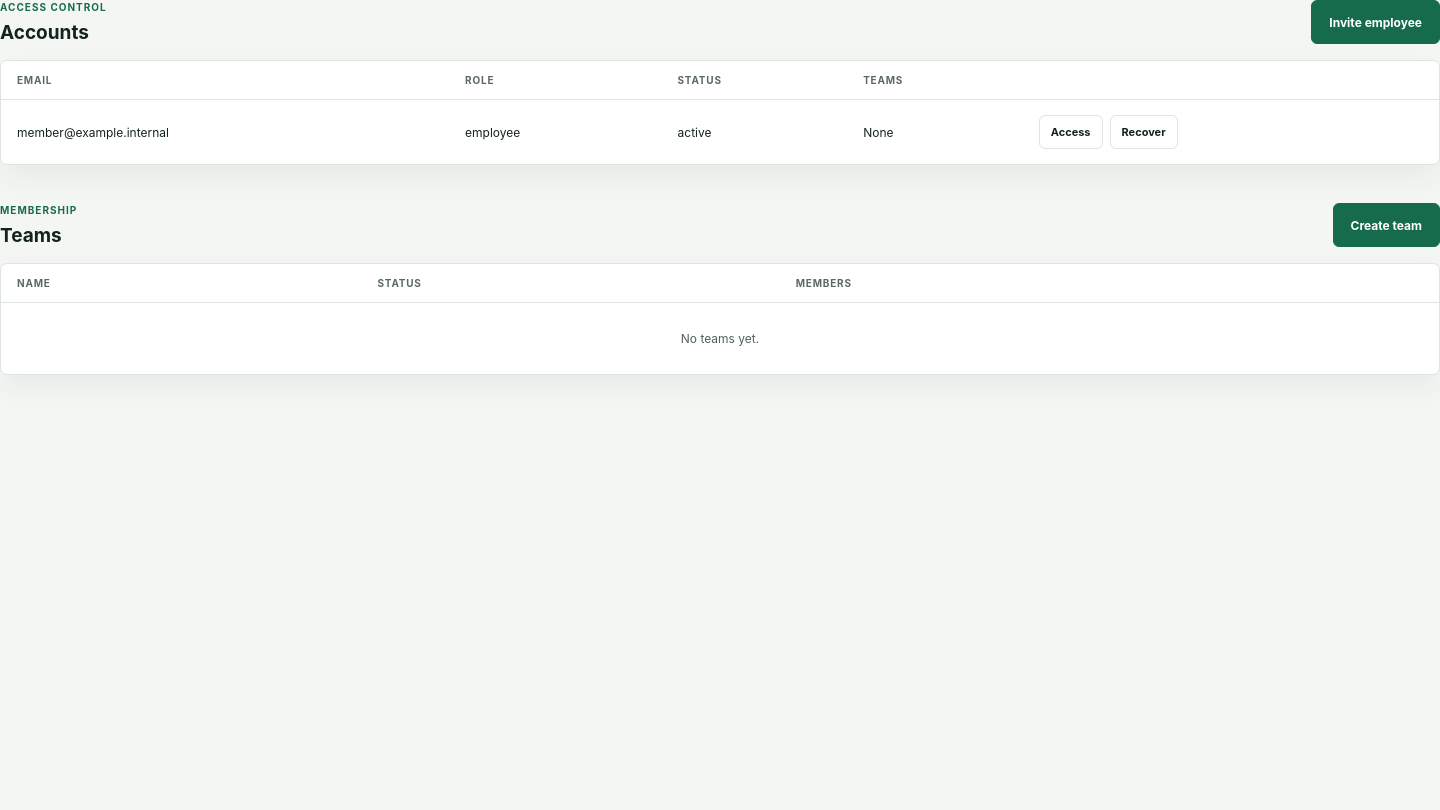
it: SystemAdminWorkspace › distinguishes a failed retried role change from failed reauthentication
The image size is (1440, 810).
Click the button with aria-label "Manage access for member@example.internal": x=1071, y=132 x1=1039 y1=115 x2=1103 y2=149
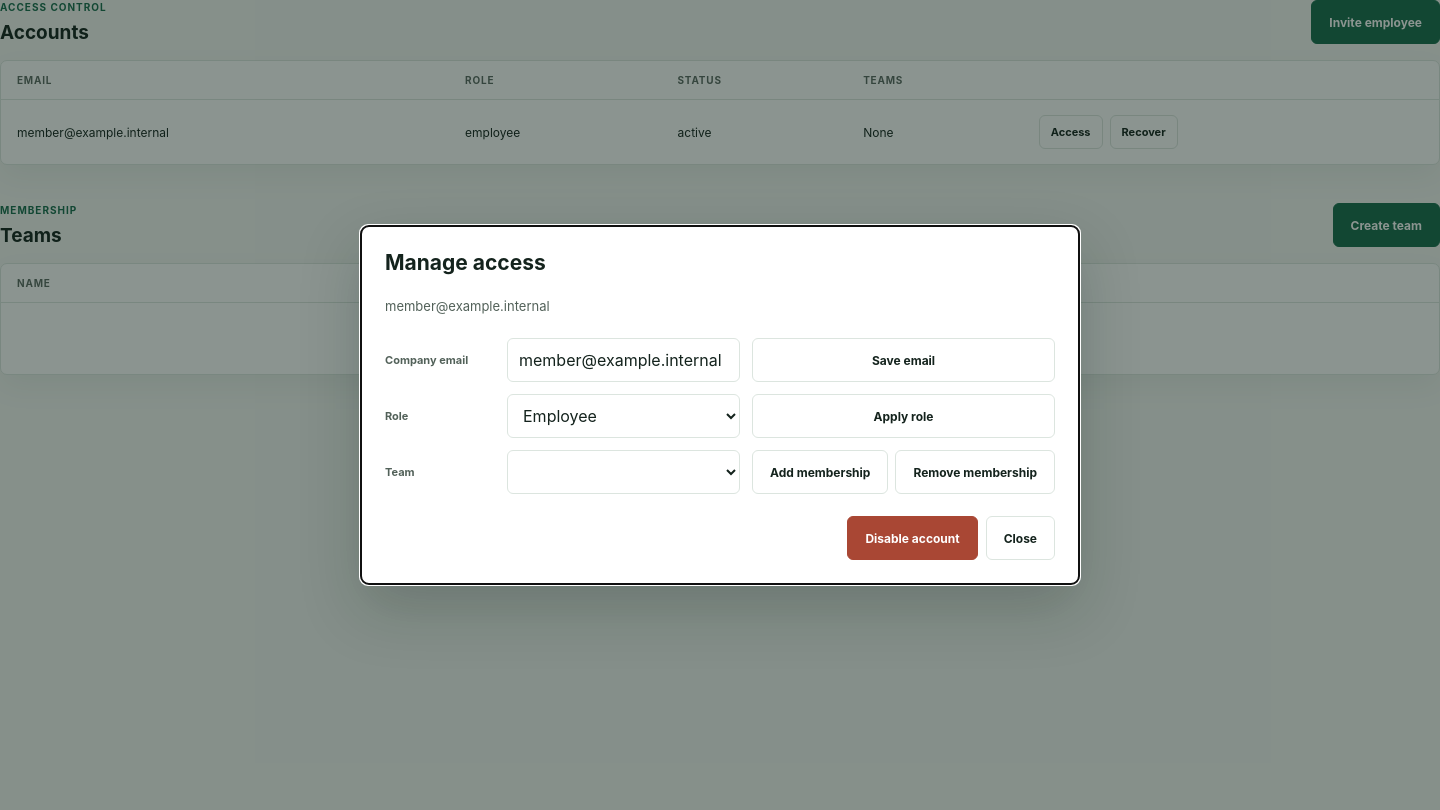
Select "System administrator" in the dropdown labelled "Role": x=624, y=416 x1=507 y1=394 x2=740 y2=438
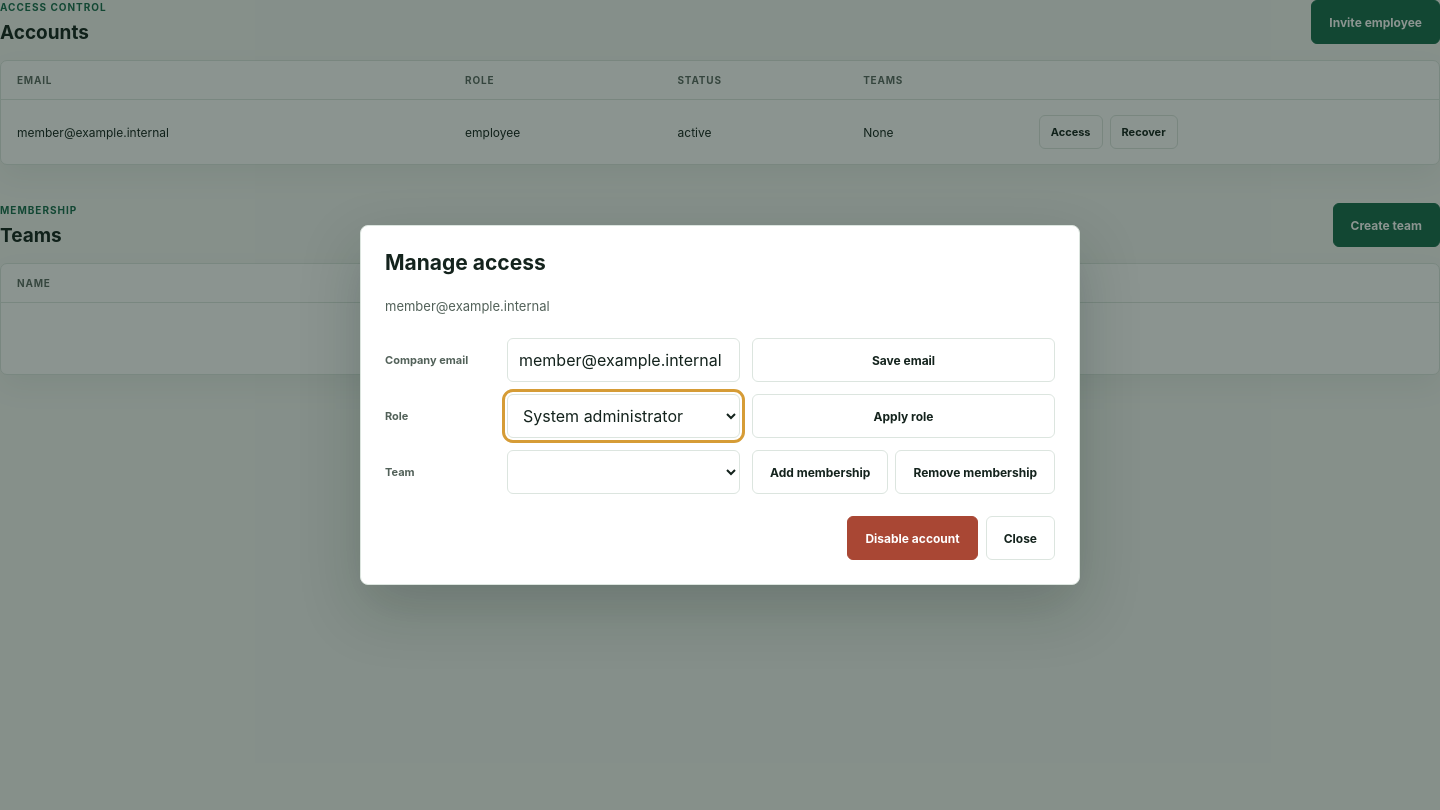
Click the button "Apply role": x=904, y=416 x1=752 y1=394 x2=1055 y2=438
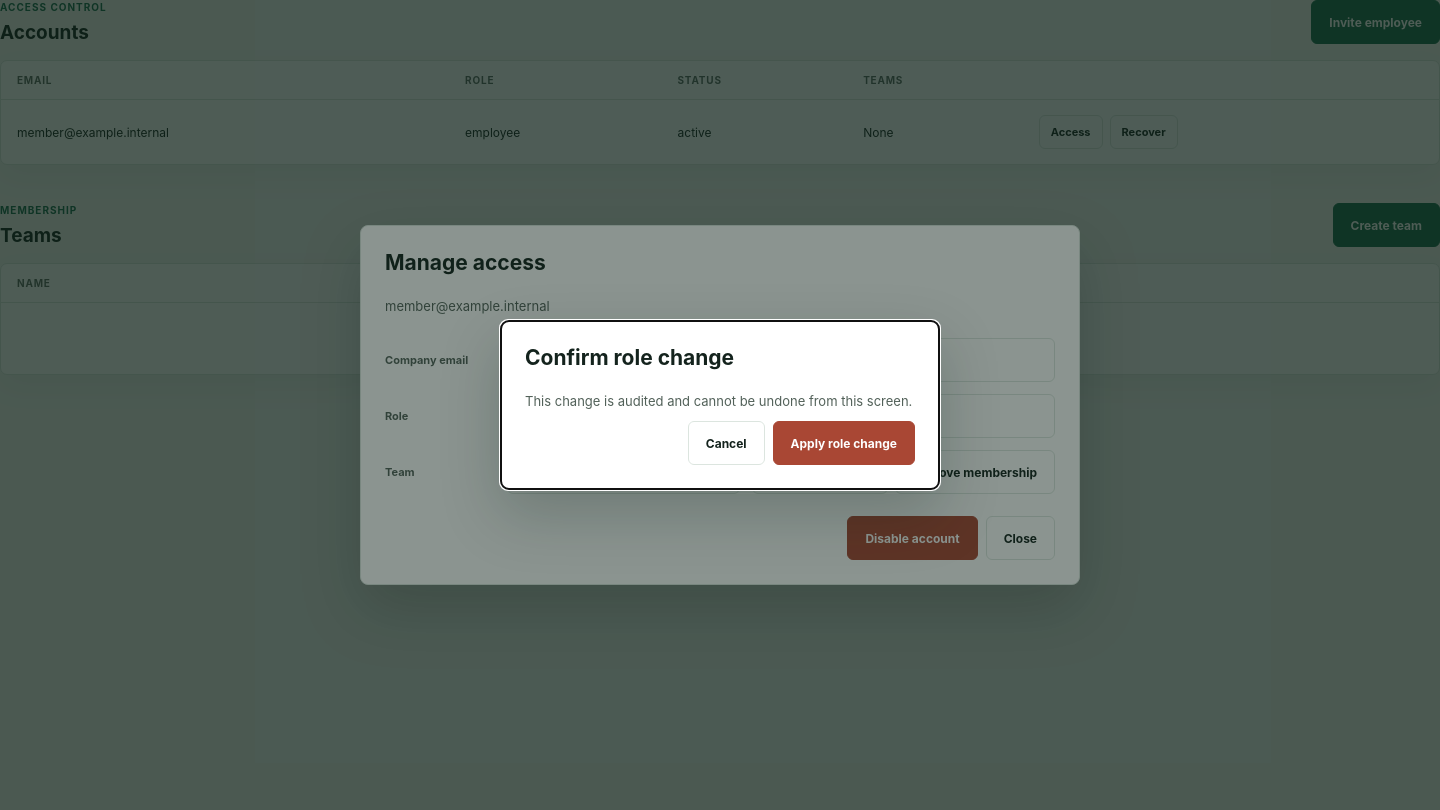
Click the button "Apply role change": x=844, y=443 x1=773 y1=421 x2=915 y2=465
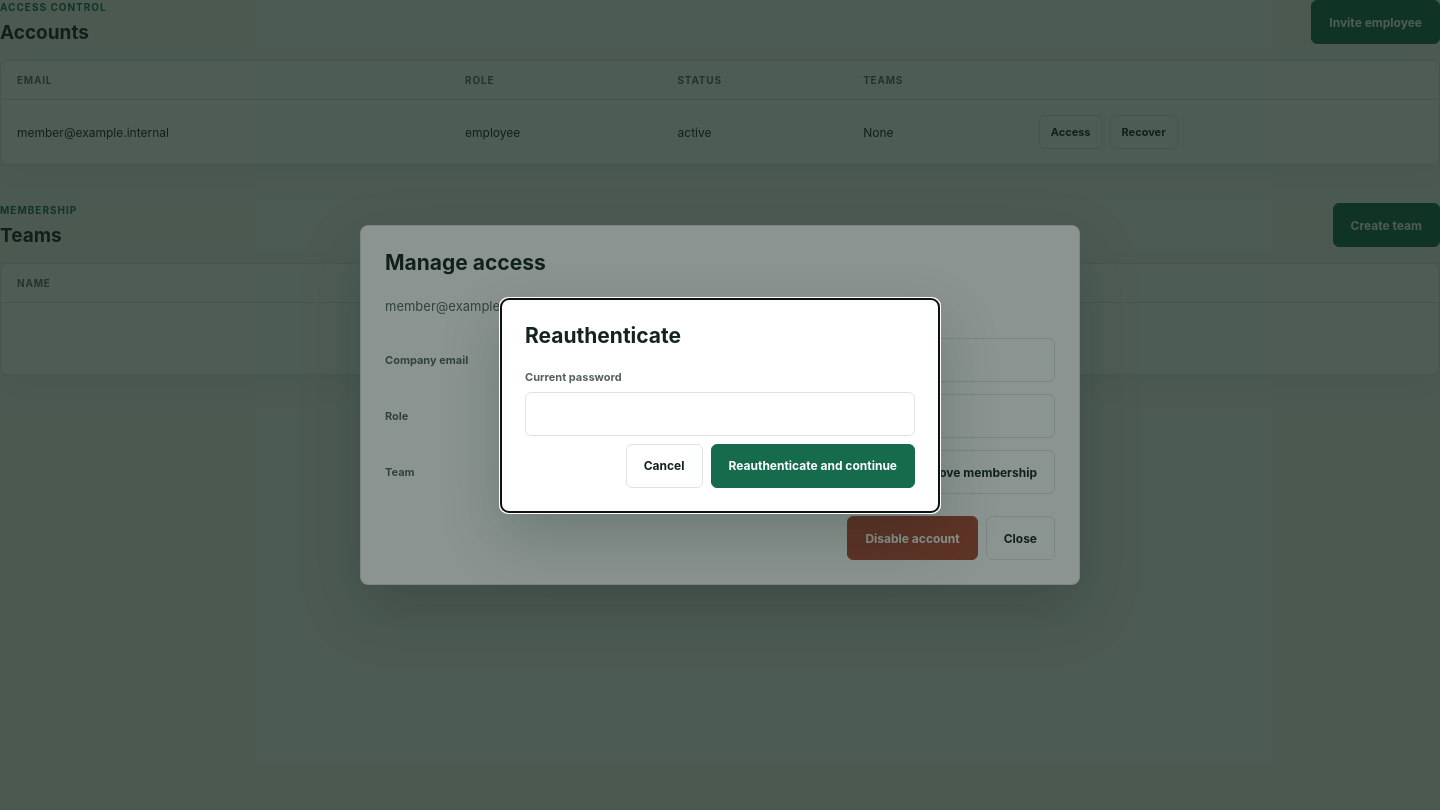
In the password field labelled "Current password": x=720, y=414 x1=525 y1=392 x2=915 y2=436, type "current-password"
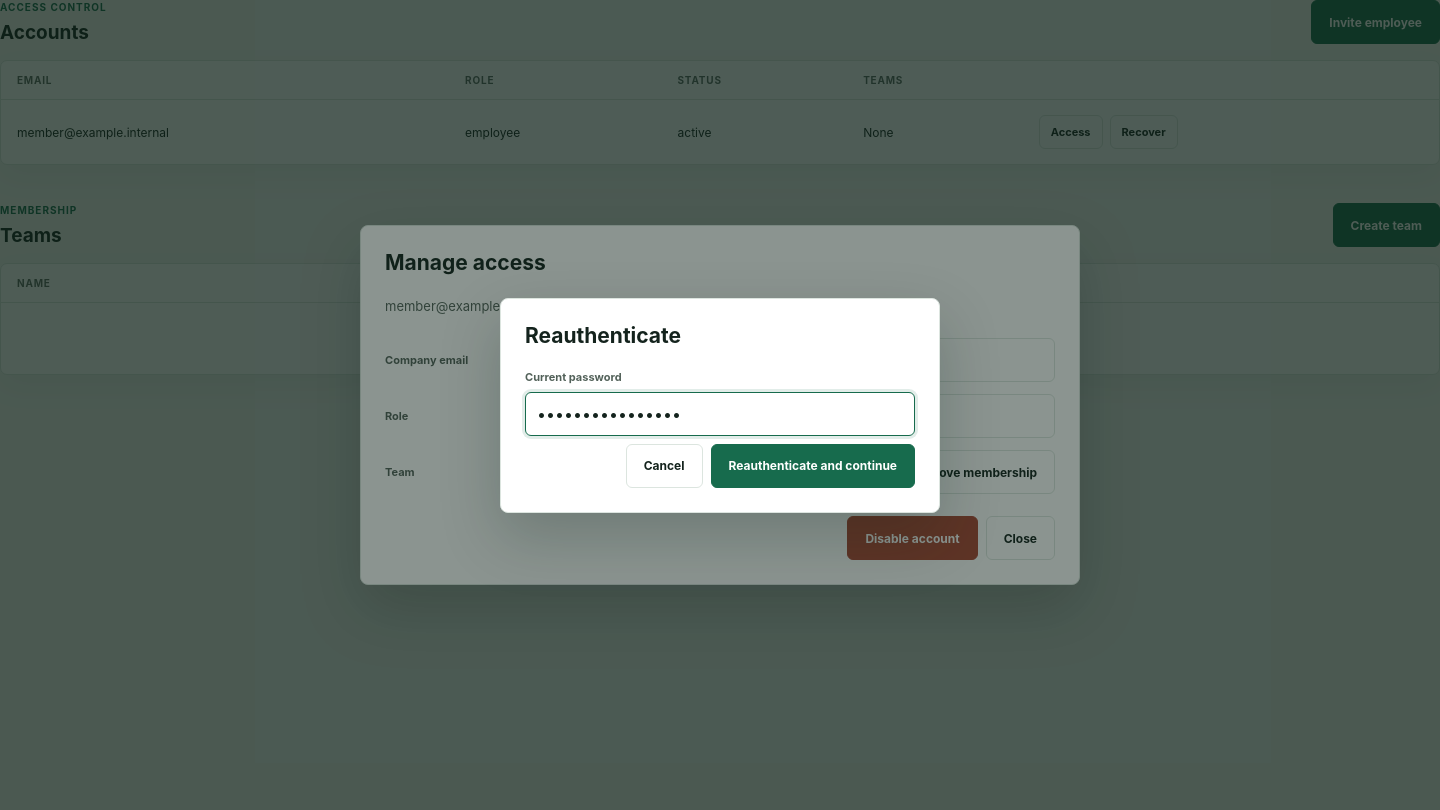
Click the button "Reauthenticate and continue": x=813, y=466 x1=710 y1=444 x2=915 y2=488
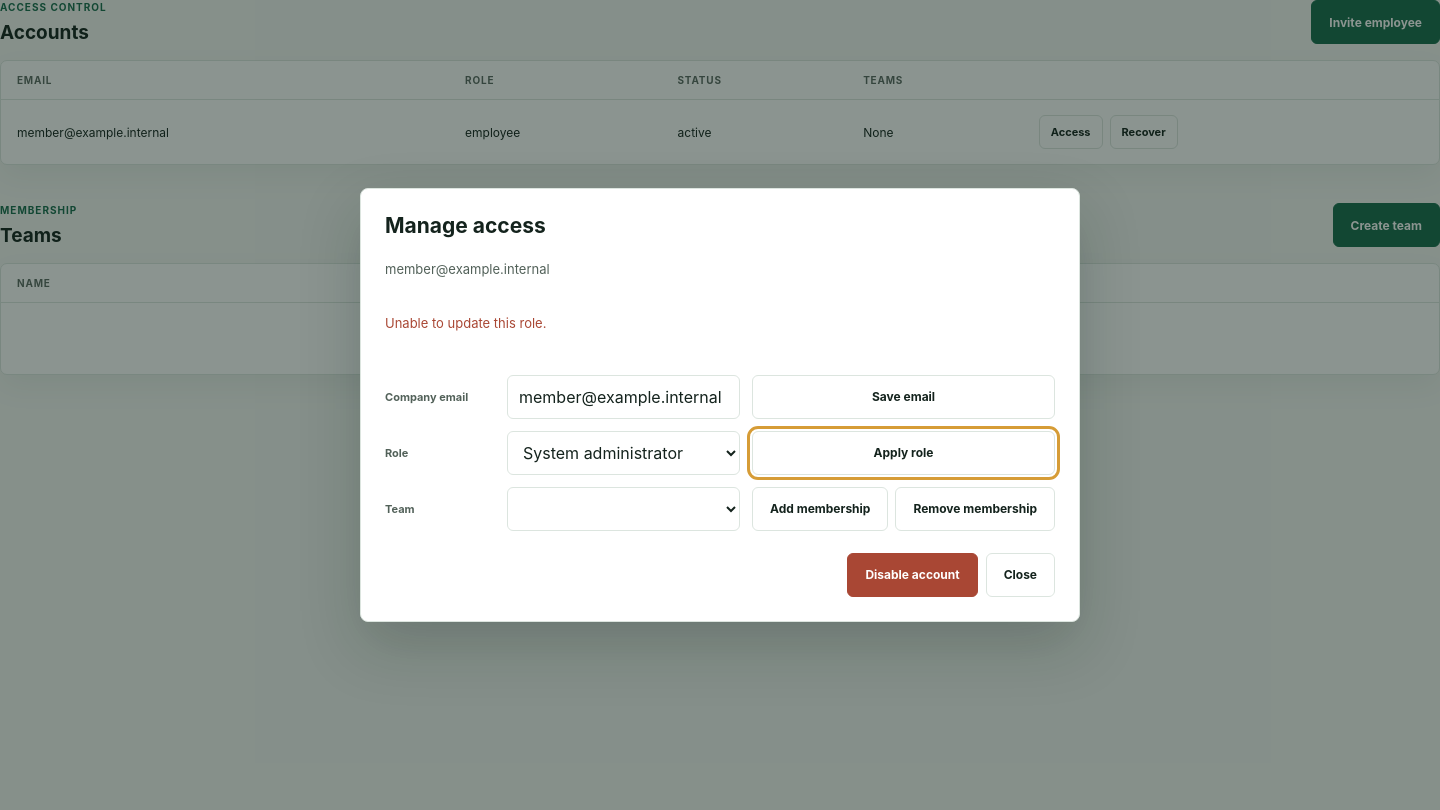
Check: the text "Unable to update this role." is shown, box x1=385 y1=315 x2=546 y2=331
